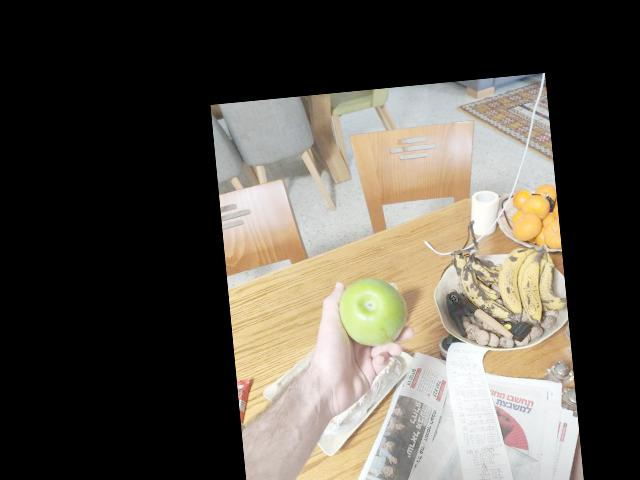apple: (332, 271, 403, 350)
